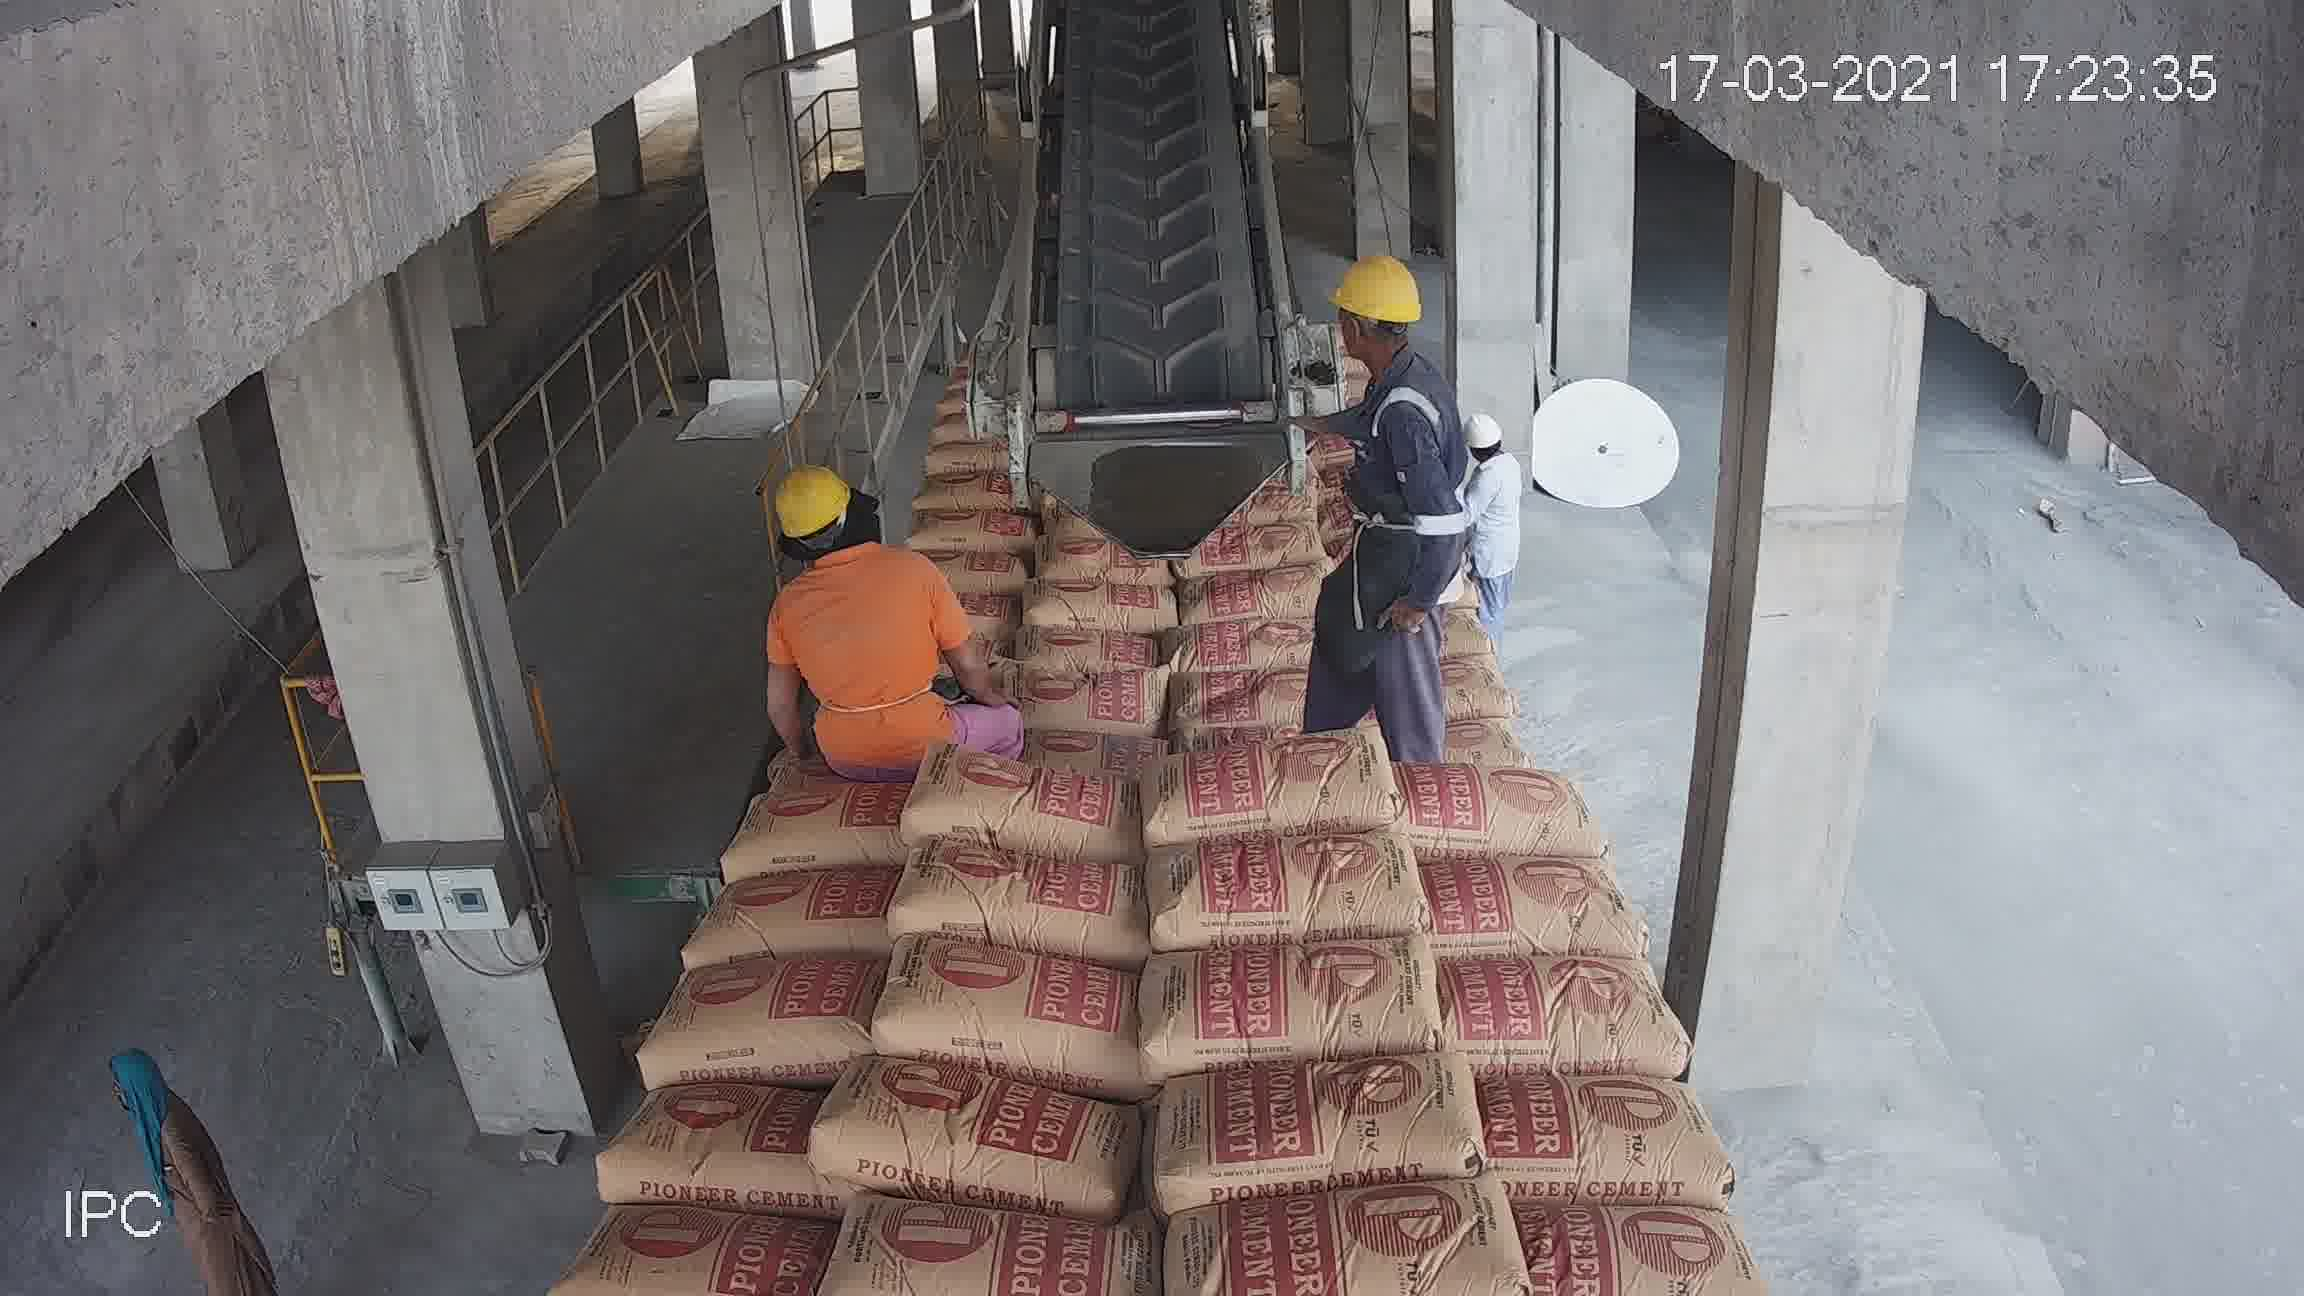bag: (1041, 6, 1260, 370)
bag_h: (1135, 1014, 1510, 1204), (1106, 824, 1434, 961), (805, 1071, 1143, 1203), (1431, 934, 1703, 1078), (1133, 927, 1438, 1055), (619, 953, 877, 1101), (856, 954, 1144, 1084), (1169, 1195, 1537, 1296), (1119, 734, 1400, 861), (1473, 1071, 1711, 1211), (1431, 832, 1674, 961), (555, 1187, 820, 1296), (592, 1095, 831, 1211), (820, 1211, 1139, 1296), (878, 858, 1131, 957), (1537, 1207, 1771, 1296), (684, 866, 885, 968), (932, 761, 1150, 855), (1173, 585, 1375, 684), (1131, 674, 1381, 752), (737, 709, 930, 805), (1366, 692, 1573, 775), (731, 786, 907, 878), (957, 604, 1176, 677), (1408, 774, 1573, 867), (923, 685, 1139, 753), (1169, 533, 1353, 611), (798, 631, 957, 711), (984, 497, 1169, 565), (1364, 612, 1563, 673), (813, 516, 965, 593), (965, 560, 1157, 619), (807, 585, 961, 650), (1374, 571, 1518, 638), (1347, 510, 1476, 571), (1040, 476, 1184, 524), (1304, 411, 1429, 464), (1320, 451, 1465, 495), (1355, 470, 1464, 529), (1263, 361, 1408, 404), (1040, 418, 1166, 467), (1291, 392, 1419, 437), (1283, 343, 1400, 386), (1051, 462, 1180, 487), (1275, 320, 1380, 345), (1513, 1168, 1532, 1196)
